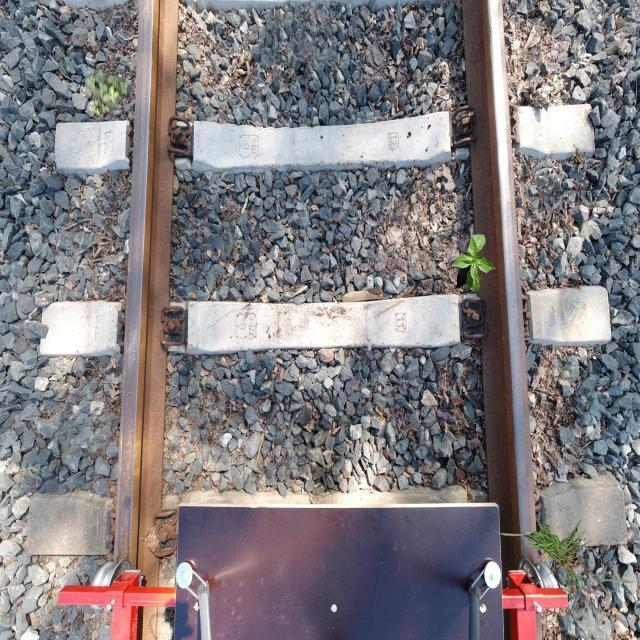Plant: (490, 516, 634, 606), (455, 234, 497, 294), (84, 68, 128, 118)
